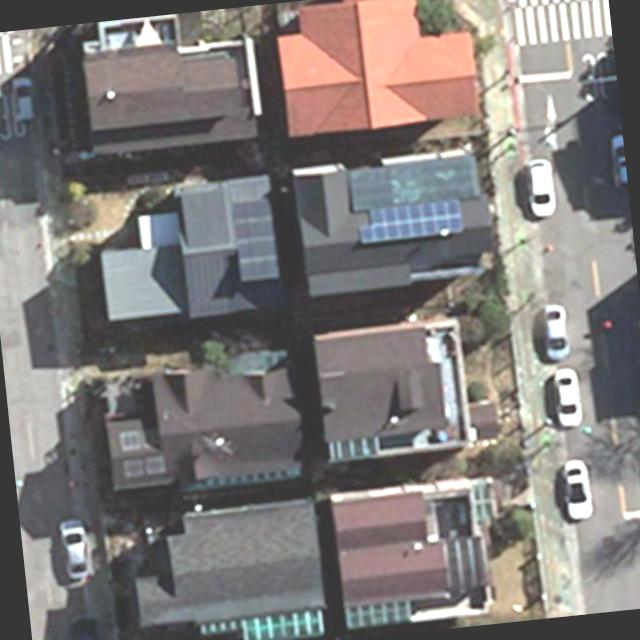solar: (352, 198, 463, 245), (230, 196, 280, 284)
